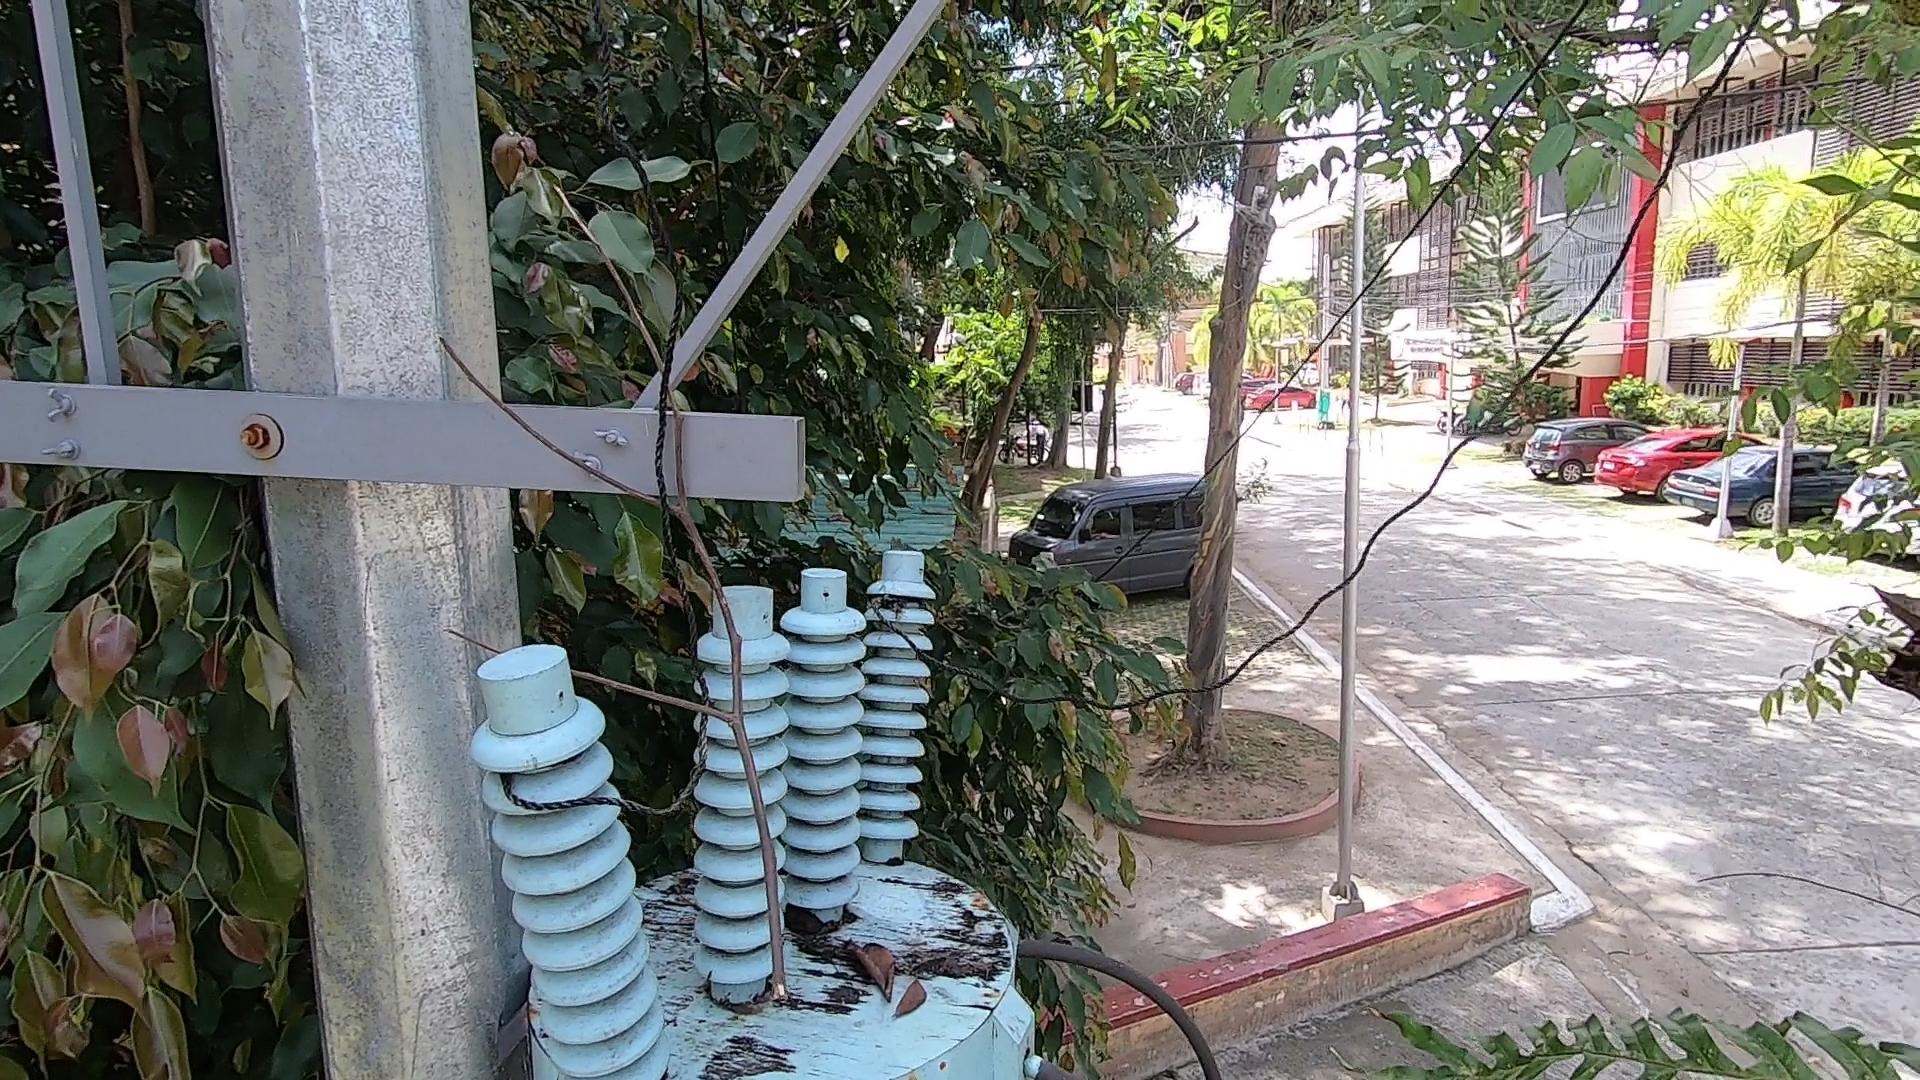leaf: (837, 938, 909, 1002), (881, 982, 947, 1027), (785, 905, 835, 948)
tree branch: (429, 178, 849, 994)
